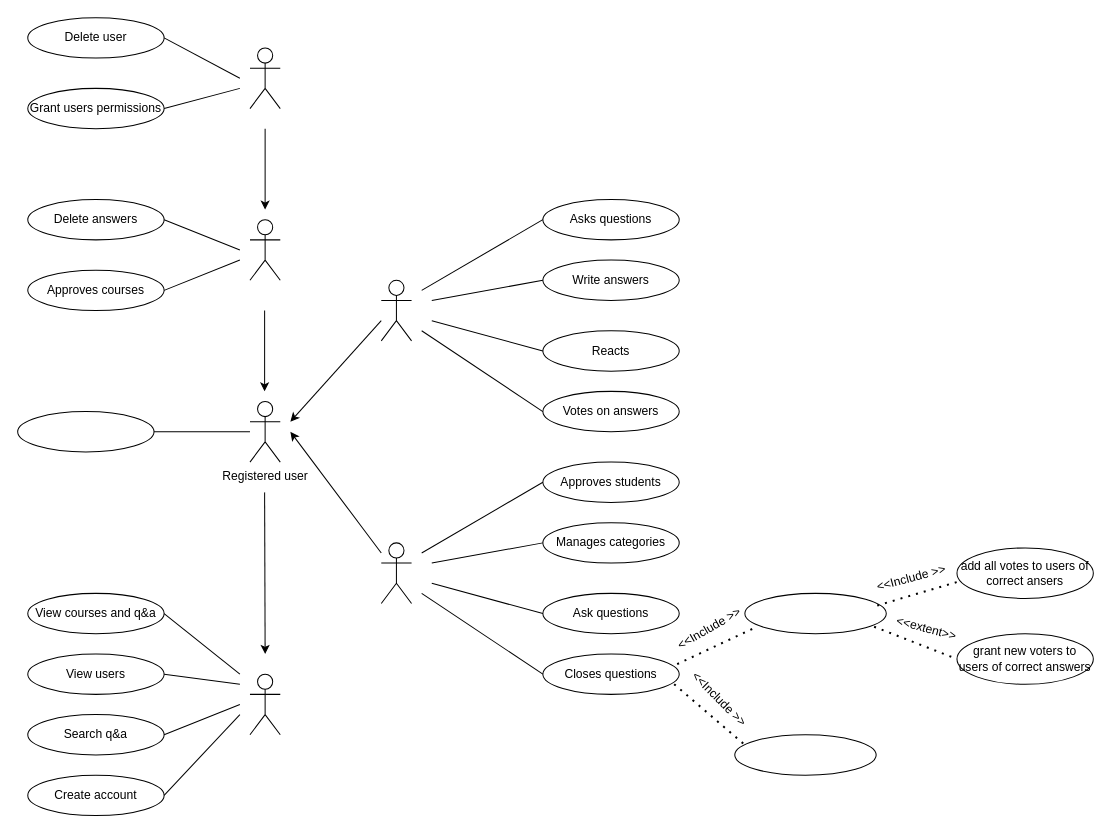
This 1111x833 diagram has some shape labels left out. Here are the shapes that lost their labels. From the top down, the centre of each, then its label:
the point at 264,78: Admin
the point at 264,249: Moderator
the point at 396,310: Student
the point at 85,431: Create courses
the point at 396,572: Teacher
the point at 815,613: Labels good & bad answers
the point at 264,704: Unregistered user
the point at 805,754: Writes final answer
